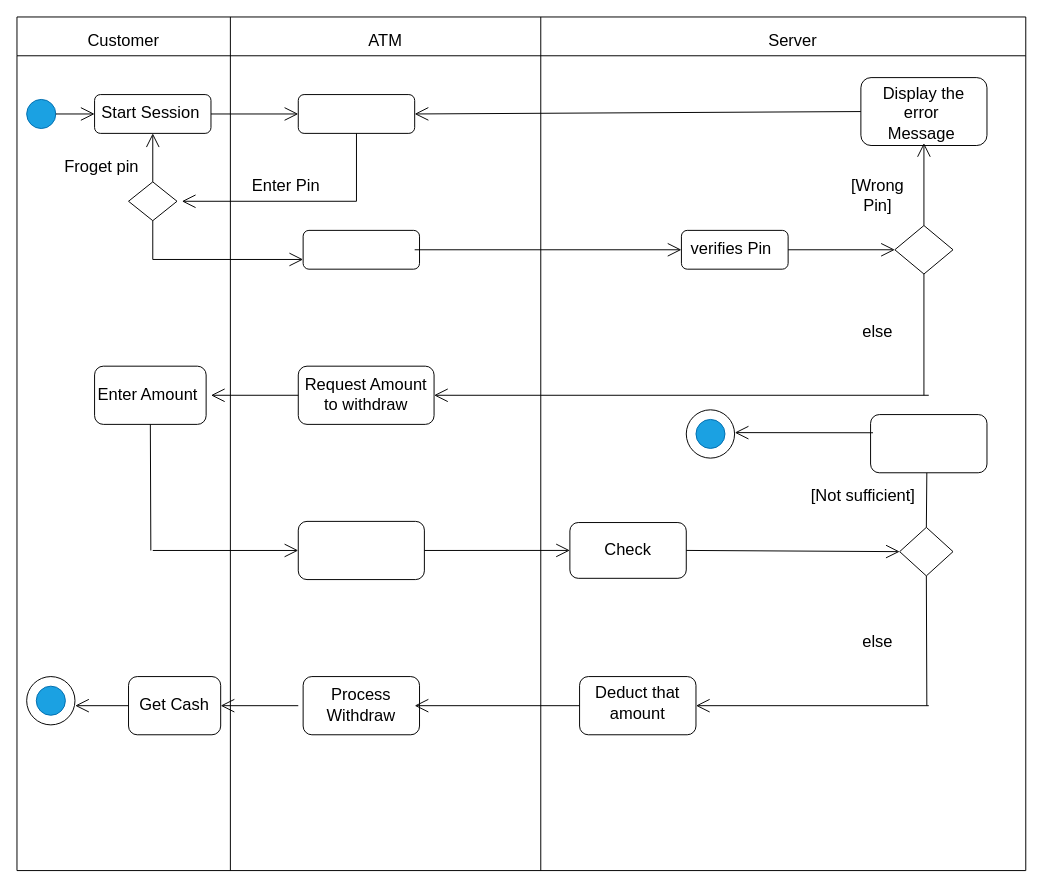
This 1043x889 diagram has some shape labels left out. The shapes that lost their labels are listed below. From the top down, each one's centre as x and y in pixels, then its label:
pixel 356 113: Request Pin
pixel 361 249: Process Ping
pixel 928 443: Display The Message
pixel 360 550: Process Amount
